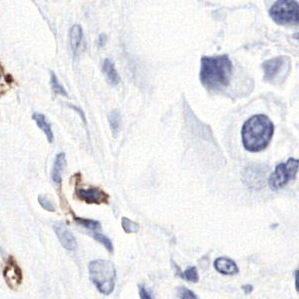Lymphocyte: (69, 175, 112, 205)
